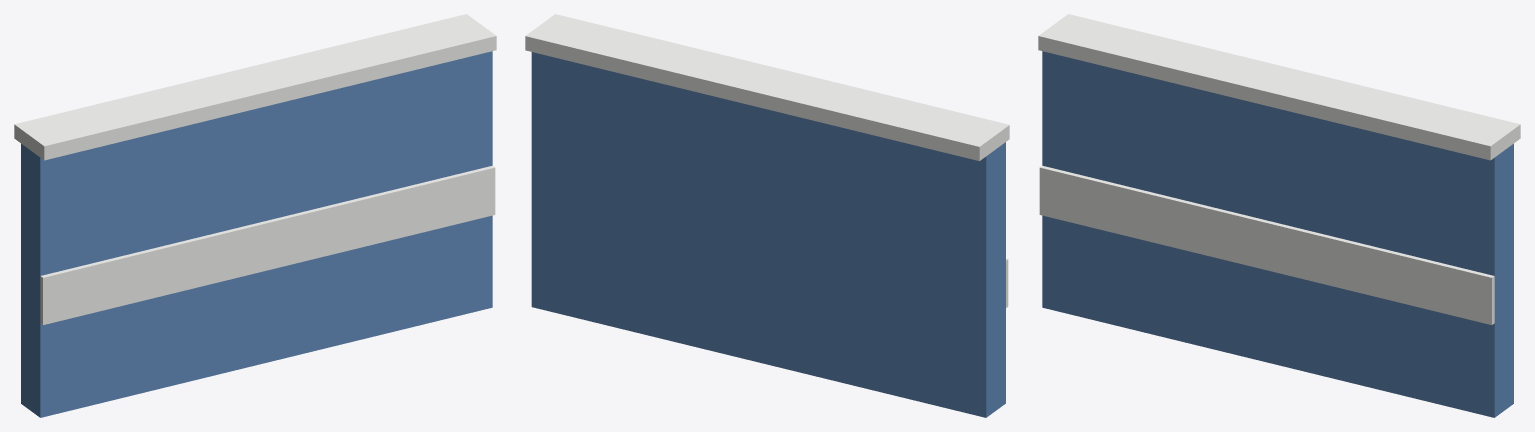
The model's file is canopy_fascia.glb.
The picture shows the model from 3 angles, left to right: view 1: azimuth 30°, elevation 25°; view 2: azimuth 150°, elevation 25°; view 3: azimuth 330°, elevation 25°; orthographic projection.
Visible parts, largest first — view 1: canopy_fascia_band, canopy_fascia_trim; view 2: canopy_fascia_band, canopy_fascia_trim; view 3: canopy_fascia_band, canopy_fascia_trim.
Boxes of the visible parts, box(x1,y1,x2,y2) form: canopy_fascia_band: box(21, 51, 492, 417); canopy_fascia_trim: box(14, 14, 496, 324); canopy_fascia_band: box(531, 52, 1005, 417); canopy_fascia_trim: box(525, 14, 1009, 307); canopy_fascia_band: box(1042, 51, 1513, 417); canopy_fascia_trim: box(1038, 14, 1520, 324).
Bounding box in the file's own units: 2 × 1.16 × 0.23.
